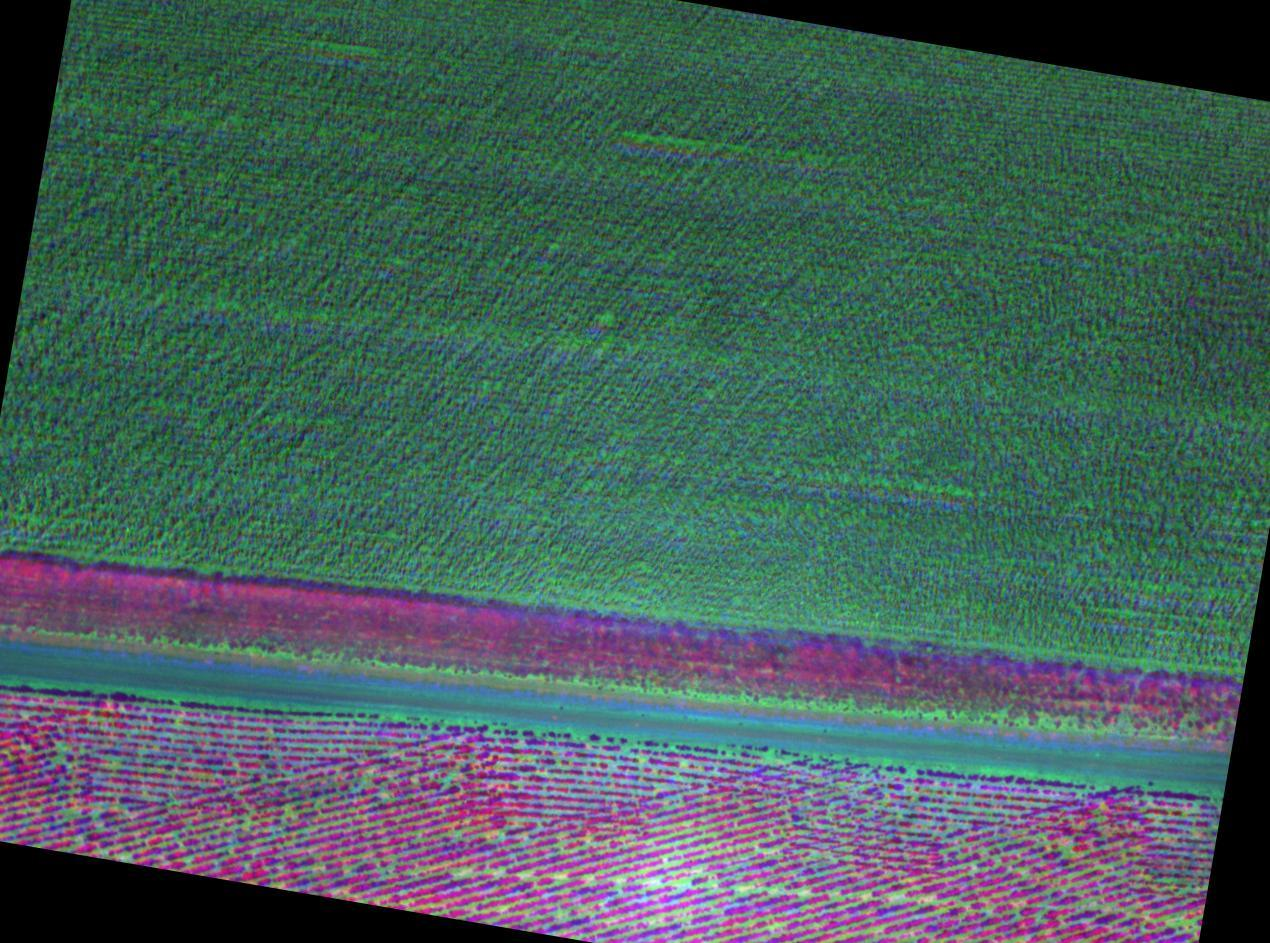dc: (741, 886, 750, 895), (772, 889, 777, 894), (247, 820, 251, 825), (382, 875, 386, 879), (680, 882, 684, 886), (524, 872, 528, 875), (801, 889, 803, 892)
